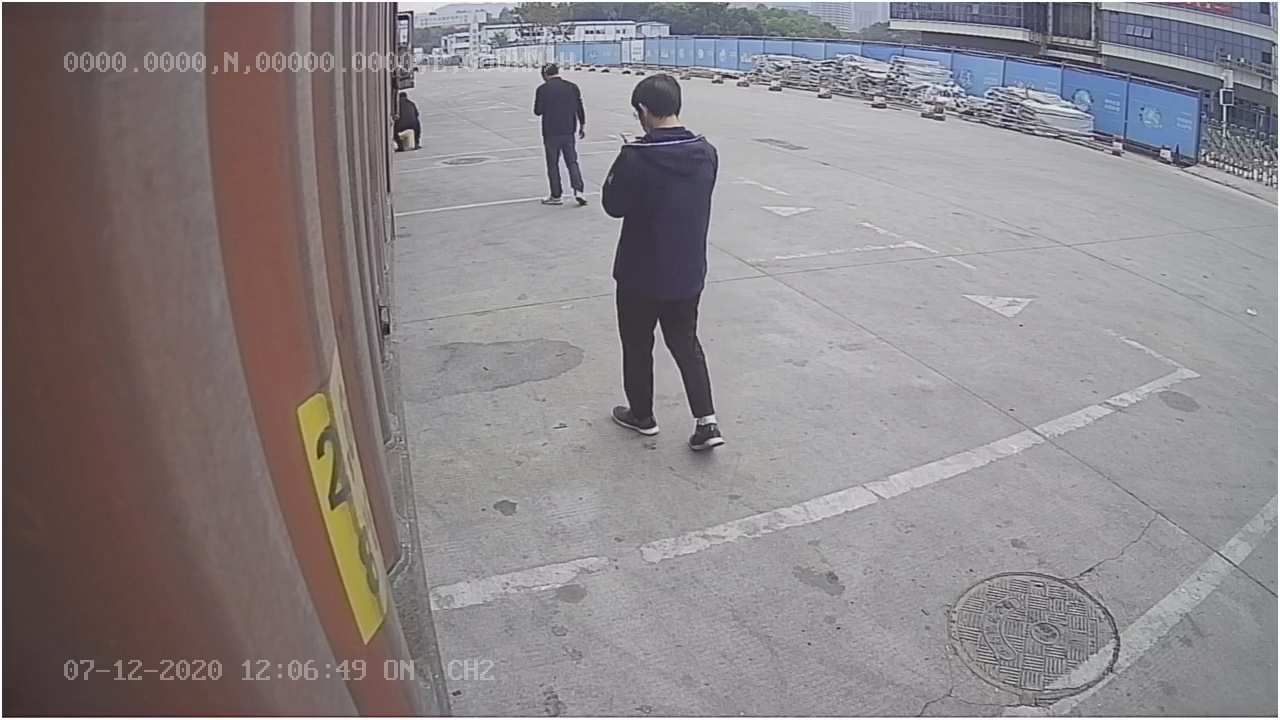person: (595, 68, 727, 459)
